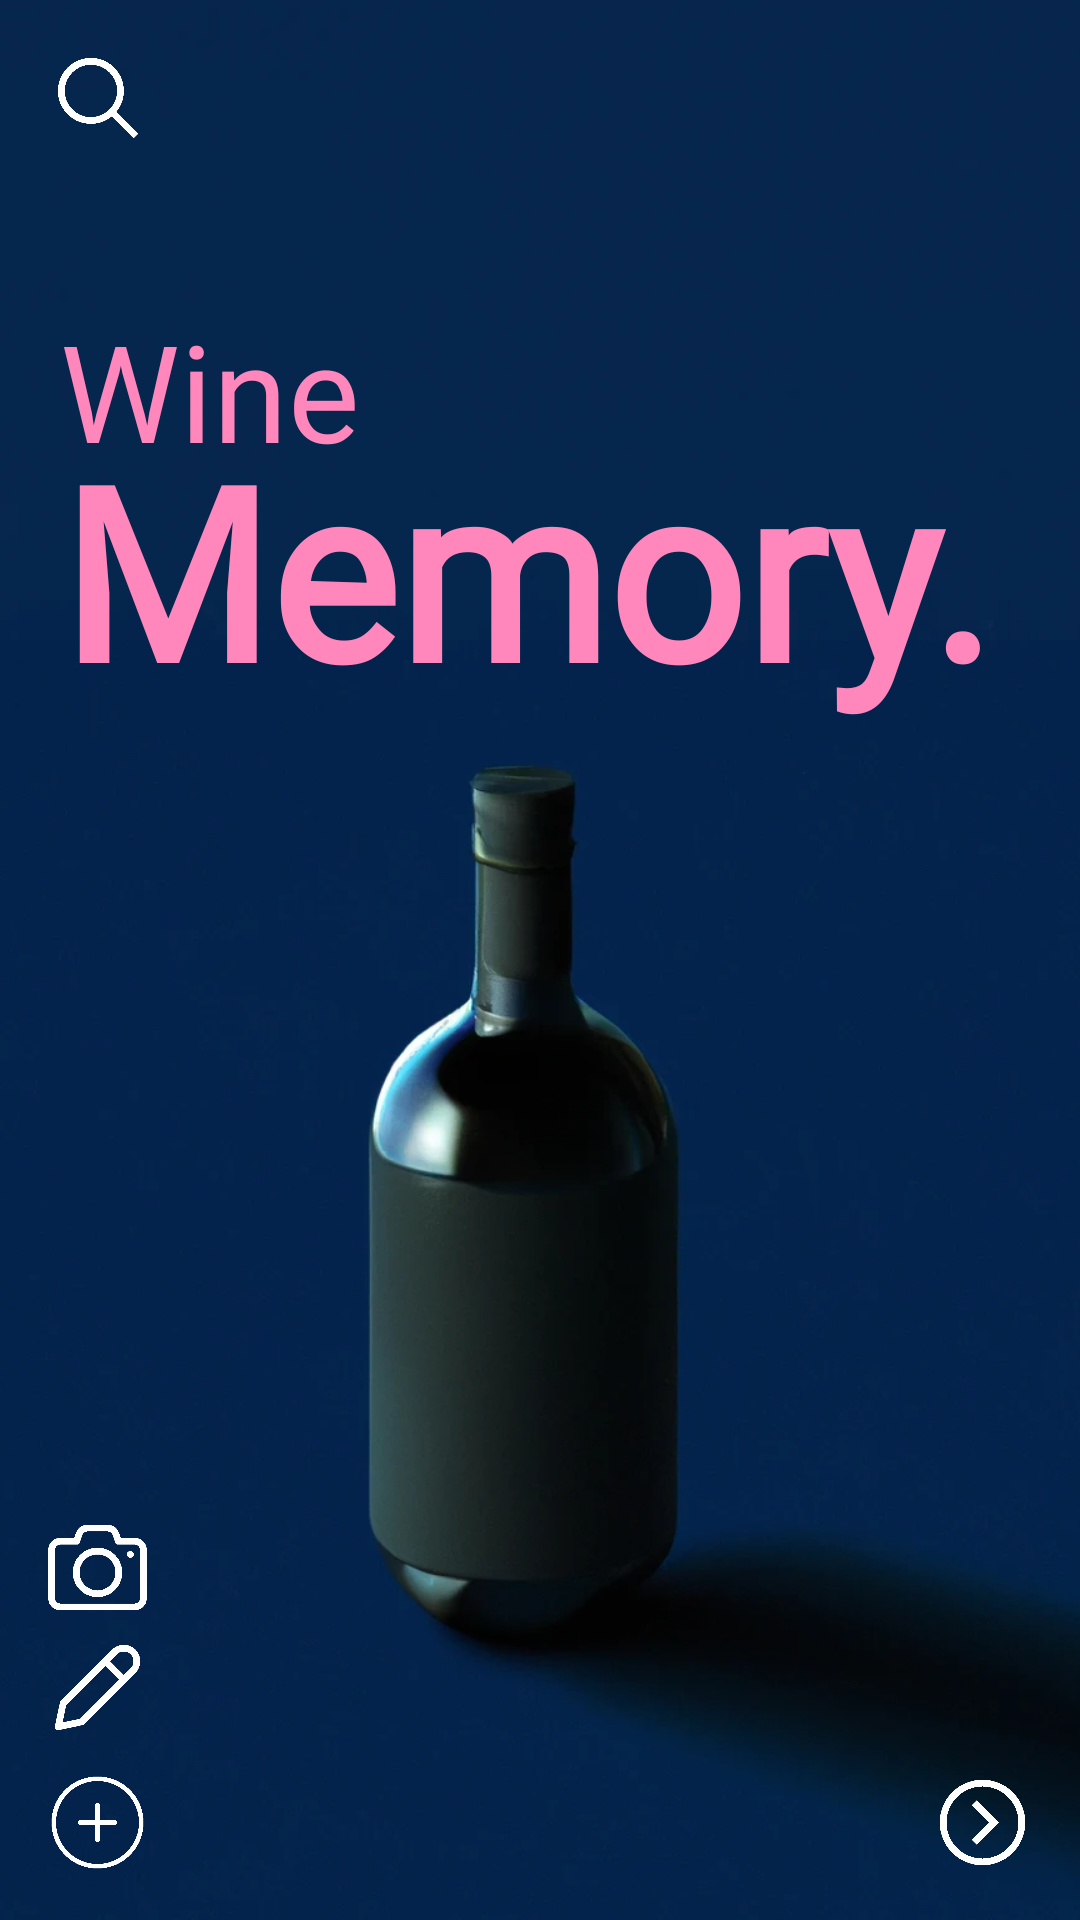

Point at icon controls on the screen. Image size 1080px x 1920px, points as (x=x, y=y).
add: (x=97, y=1822)
arrow right: (x=982, y=1822)
camera: (x=97, y=1567)
pen: (x=97, y=1687)
search: (x=98, y=98)
